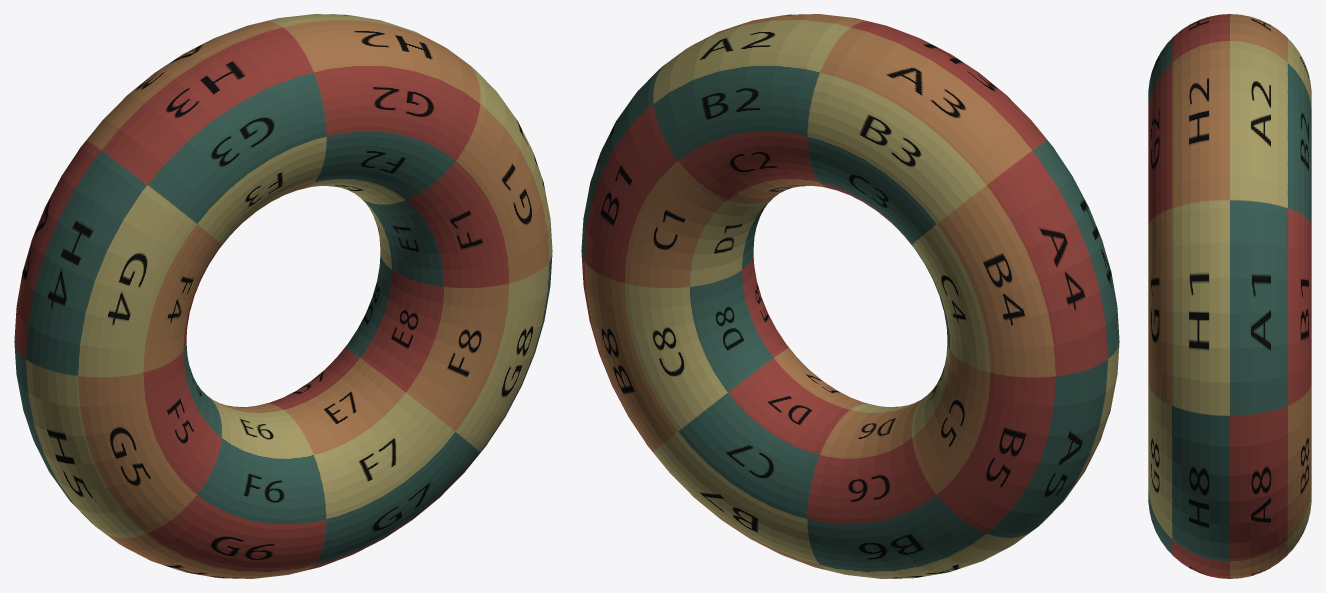
Rendered from texture_torus_R13_r21.glb.
3 renders of one model, left to right at view 1: azimuth 30°, elevation 25°; view 2: azimuth 150°, elevation 25°; view 3: azimuth 270°, elevation 25°, orthographic. The views are drawn at different scales.
Parts seen in each view (by area): view 1: world; view 2: world; view 3: world.
Part boxes in pixels (bbox=[...]): world: bbox=[14, 14, 552, 578]; world: bbox=[581, 14, 1119, 578]; world: bbox=[1148, 14, 1311, 578].
Bounding box in the file's own units: 26.27 × 26.21 × 7.59.
1 material, 1 textured.
